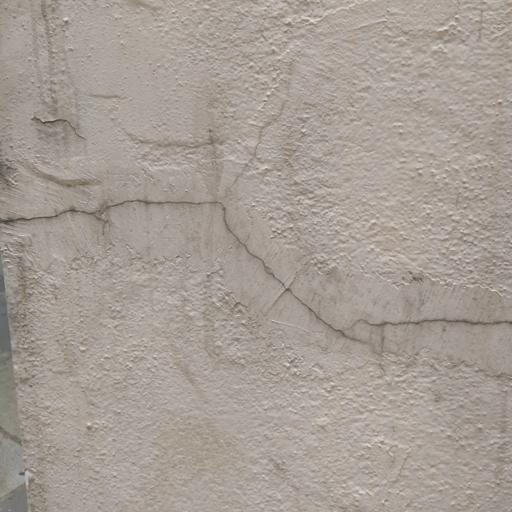minor_crack: (0, 159, 512, 356)
